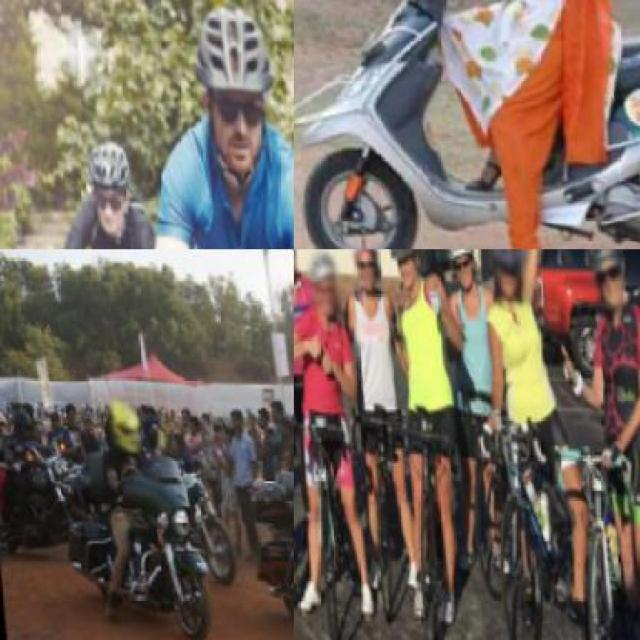With Helmet: (183, 0, 280, 155), (83, 136, 131, 241), (582, 249, 624, 317), (298, 250, 340, 318), (486, 250, 528, 312), (434, 250, 480, 296), (102, 396, 138, 453), (374, 249, 424, 289), (343, 249, 380, 289)
